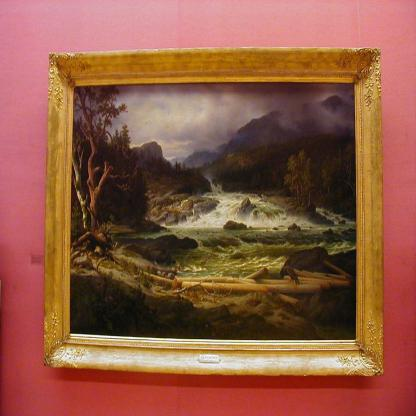Picture-frame: (44, 50, 384, 377)
